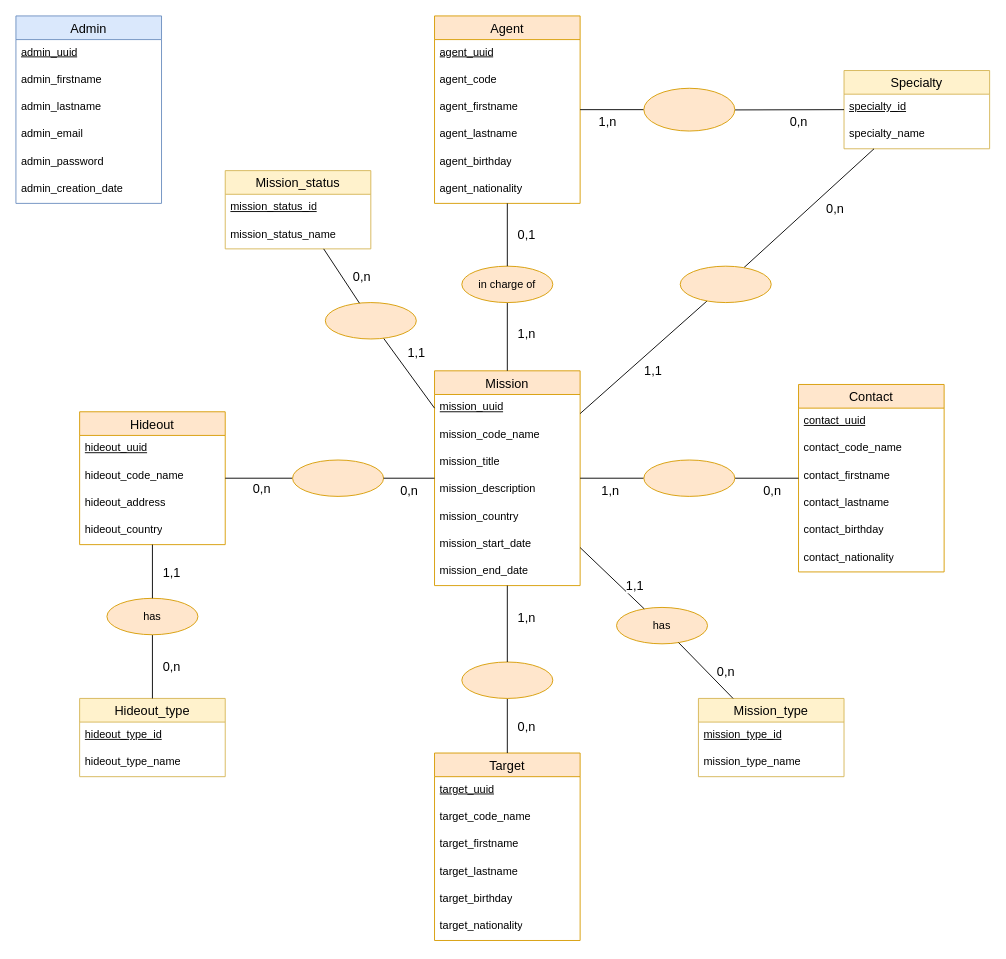
Image size: 1006x959. Some labels were removed from this diagram. Each missing label, with the centre of its shape:
concern: (x=507, y=679)
indicates: (x=338, y=477)
is actually: (x=370, y=320)
is competent in: (x=689, y=109)
recommends: (x=689, y=477)
require: (x=725, y=284)
